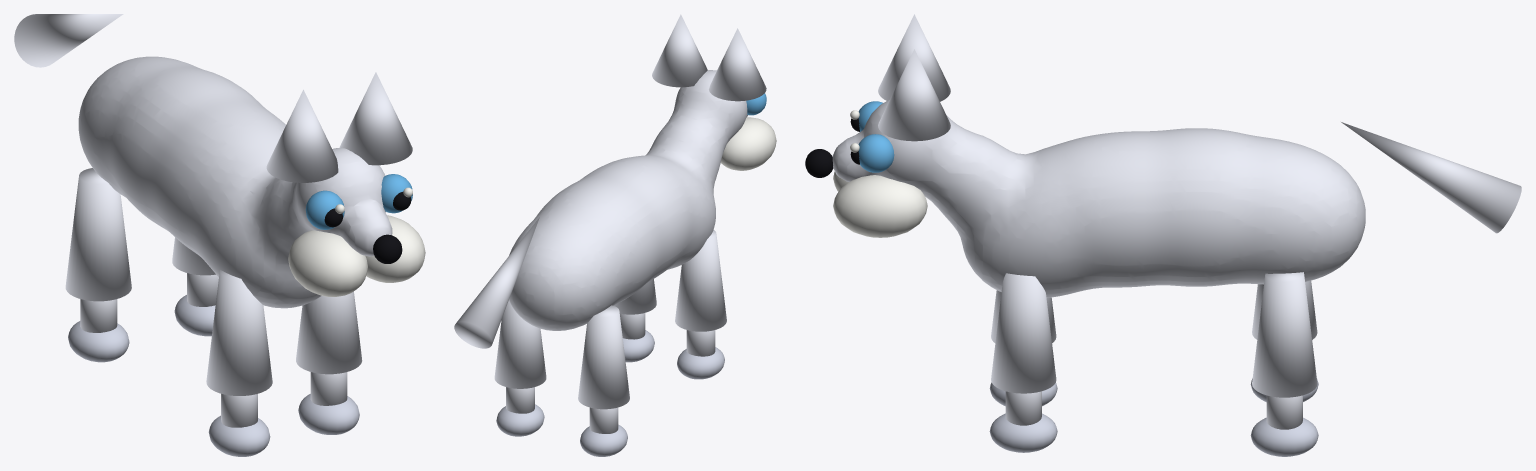
The model's file is Snow Leopard.obj.
The picture shows the model from 3 angles, left to right: view 1: azimuth 30°, elevation 25°; view 2: azimuth 150°, elevation 25°; view 3: azimuth 270°, elevation 25°; orthographic projection. The views are drawn at different scales.
Visible parts, largest first — view 1: Snow_Leopard; view 2: Snow_Leopard; view 3: Snow_Leopard.
Boxes of the visible parts, <box> form: Snow_Leopard: <box>14,14,425,456</box>; Snow_Leopard: <box>454,14,776,456</box>; Snow_Leopard: <box>805,14,1521,456</box>.
Size of the model in its own units: 1.54 by 3.6 by 5.9.
